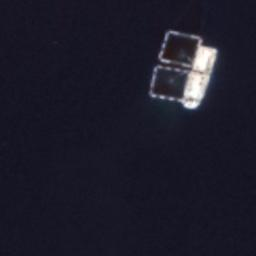square_solid: (156, 28, 206, 70), (147, 63, 195, 104)
